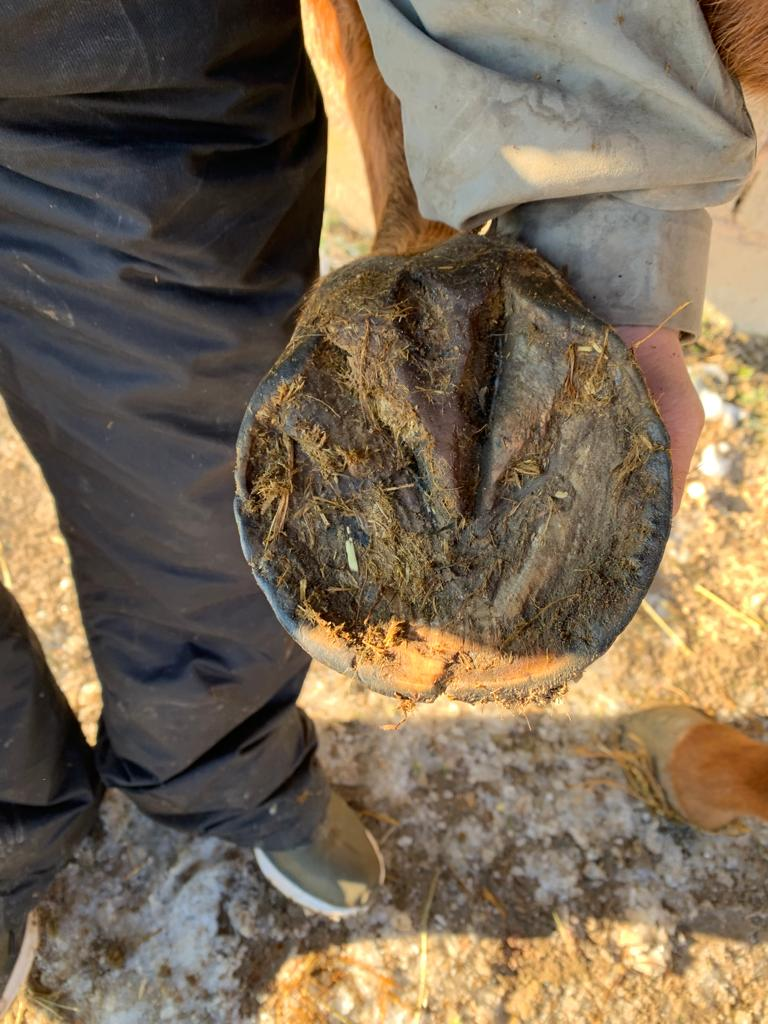horsesole: (230, 275, 675, 703)
